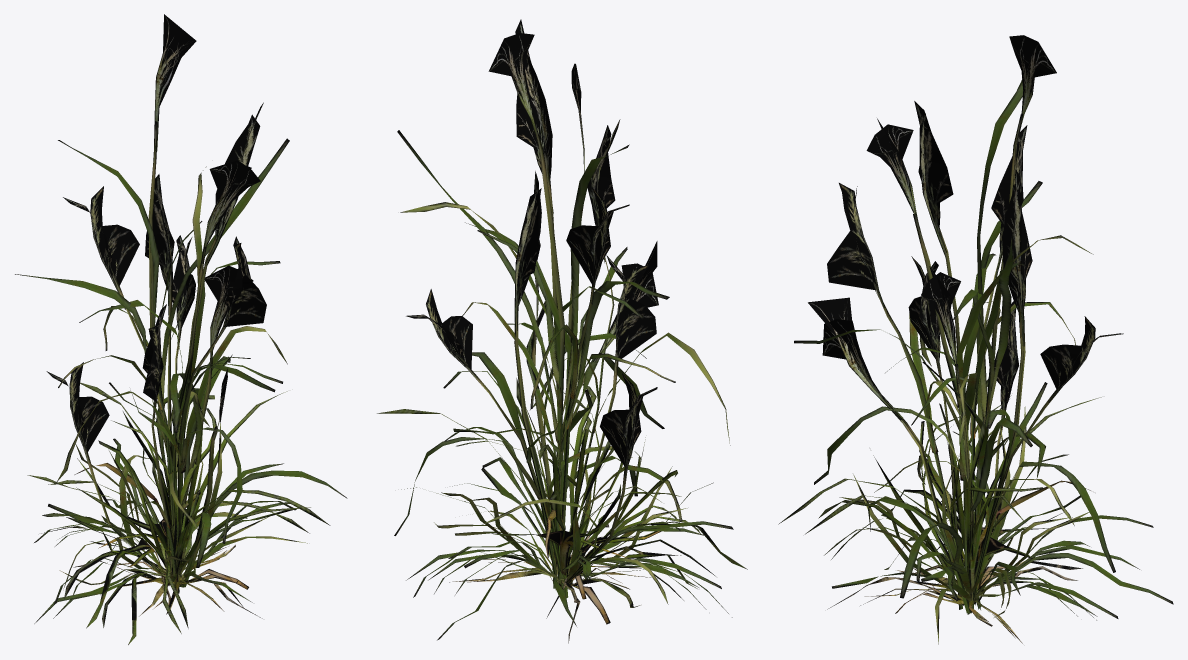
The model's file is grass_clumps.glb.
The picture shows the model from 3 angles, left to right: view 1: azimuth 30°, elevation 25°; view 2: azimuth 150°, elevation 25°; view 3: azimuth 270°, elevation 25°; orthographic projection. The views are drawn at different scales.
Parts seen in each view (by area): view 1: grass_medium_01_tall_b_LOD0, grass_medium_01_tall_c_LOD0, grass_medium_01_tall_a_LOD0, grass_medium_01_small_a_LOD0, grass_medium_01_small_b_LOD0; view 2: grass_medium_01_tall_a_LOD0, grass_medium_01_tall_c_LOD0, grass_medium_01_tall_b_LOD0, grass_medium_01_small_a_LOD0, grass_medium_01_small_b_LOD0; view 3: grass_medium_01_tall_c_LOD0, grass_medium_01_tall_a_LOD0, grass_medium_01_tall_b_LOD0, grass_medium_01_small_a_LOD0, grass_medium_01_small_b_LOD0.
Boxes of the visible parts, x1=… form: grass_medium_01_tall_b_LOD0: x1=57, y1=102, x2=287, y2=576; grass_medium_01_tall_c_LOD0: x1=46, y1=174, x2=347, y2=593; grass_medium_01_tall_a_LOD0: x1=15, y1=14, x2=289, y2=591; grass_medium_01_small_a_LOD0: x1=41, y1=354, x2=310, y2=633; grass_medium_01_small_b_LOD0: x1=27, y1=408, x2=330, y2=644; grass_medium_01_tall_a_LOD0: x1=394, y1=33, x2=669, y2=583; grass_medium_01_tall_c_LOD0: x1=443, y1=171, x2=682, y2=604; grass_medium_01_tall_b_LOD0: x1=400, y1=19, x2=730, y2=579; grass_medium_01_small_a_LOD0: x1=377, y1=301, x2=747, y2=626; grass_medium_01_small_b_LOD0: x1=406, y1=384, x2=733, y2=643; grass_medium_01_tall_c_LOD0: x1=808, y1=170, x2=1074, y2=613; grass_medium_01_tall_a_LOD0: x1=794, y1=35, x2=1123, y2=614; grass_medium_01_tall_b_LOD0: x1=814, y1=101, x2=1093, y2=590; grass_medium_01_small_a_LOD0: x1=805, y1=362, x2=1139, y2=638; grass_medium_01_small_b_LOD0: x1=778, y1=395, x2=1173, y2=644.
Bounding box in the file's own units: 0.1806 × 0.3245 × 0.1899.
Materials: 1 (1 with a texture image).
